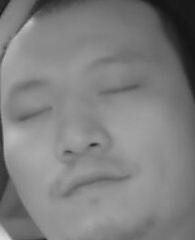blink: (99, 82, 138, 102), (19, 103, 55, 122)
mouth: (58, 167, 132, 202)
